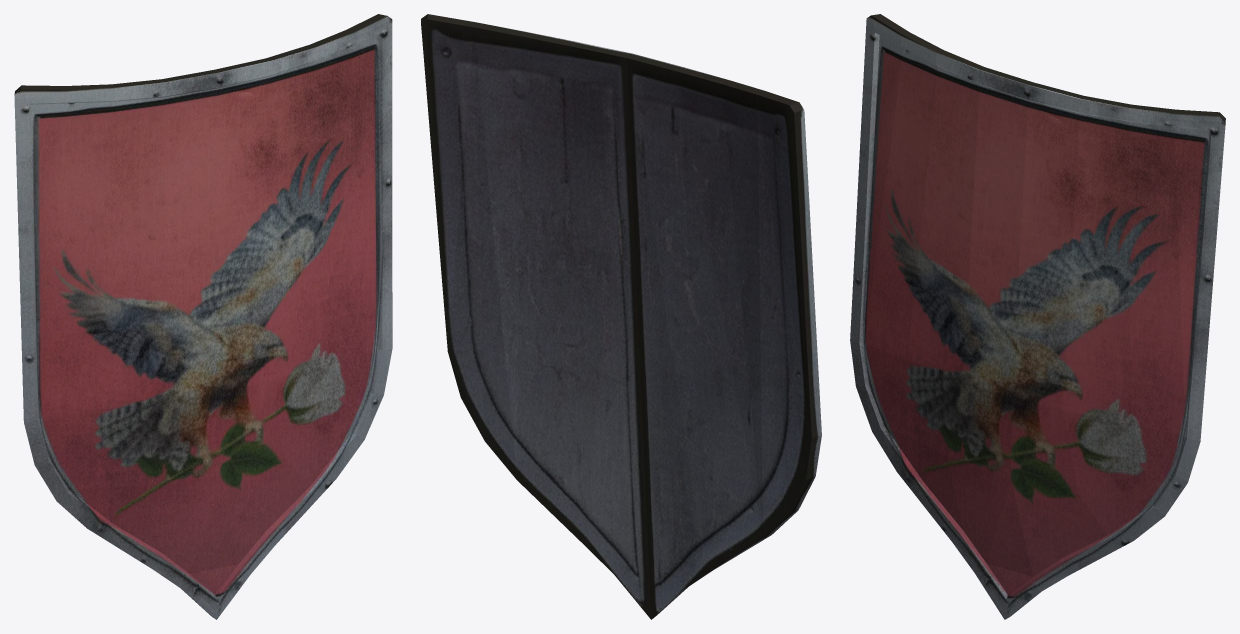
File: VAN_AERENDAAL_SHIELD_IRON.glb
The picture shows the model from 3 angles, left to right: view 1: azimuth 30°, elevation 25°; view 2: azimuth 150°, elevation 25°; view 3: azimuth 330°, elevation 25°; orthographic projection. The views are drawn at different scales.
Parts seen in each view (by area): view 1: VAN_AERENDAAL_SHIELD_IRON; view 2: VAN_AERENDAAL_SHIELD_IRON; view 3: VAN_AERENDAAL_SHIELD_IRON.
Boxes of the visible parts, left/top/right/bottom form: VAN_AERENDAAL_SHIELD_IRON: left=14, top=14, right=392, bottom=619; VAN_AERENDAAL_SHIELD_IRON: left=421, top=14, right=821, bottom=619; VAN_AERENDAAL_SHIELD_IRON: left=850, top=14, right=1225, bottom=619.
Size of the model in its own units: 0.6706 by 0.9412 by 0.1112.
1 material, 1 textured.
